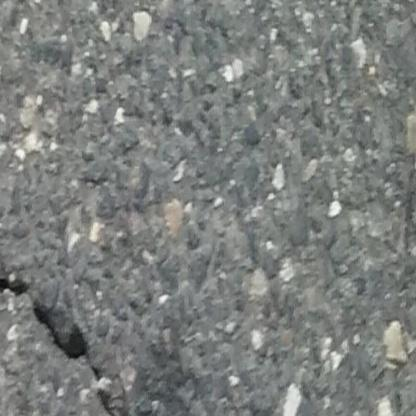Cracks: (0, 264, 136, 416)
